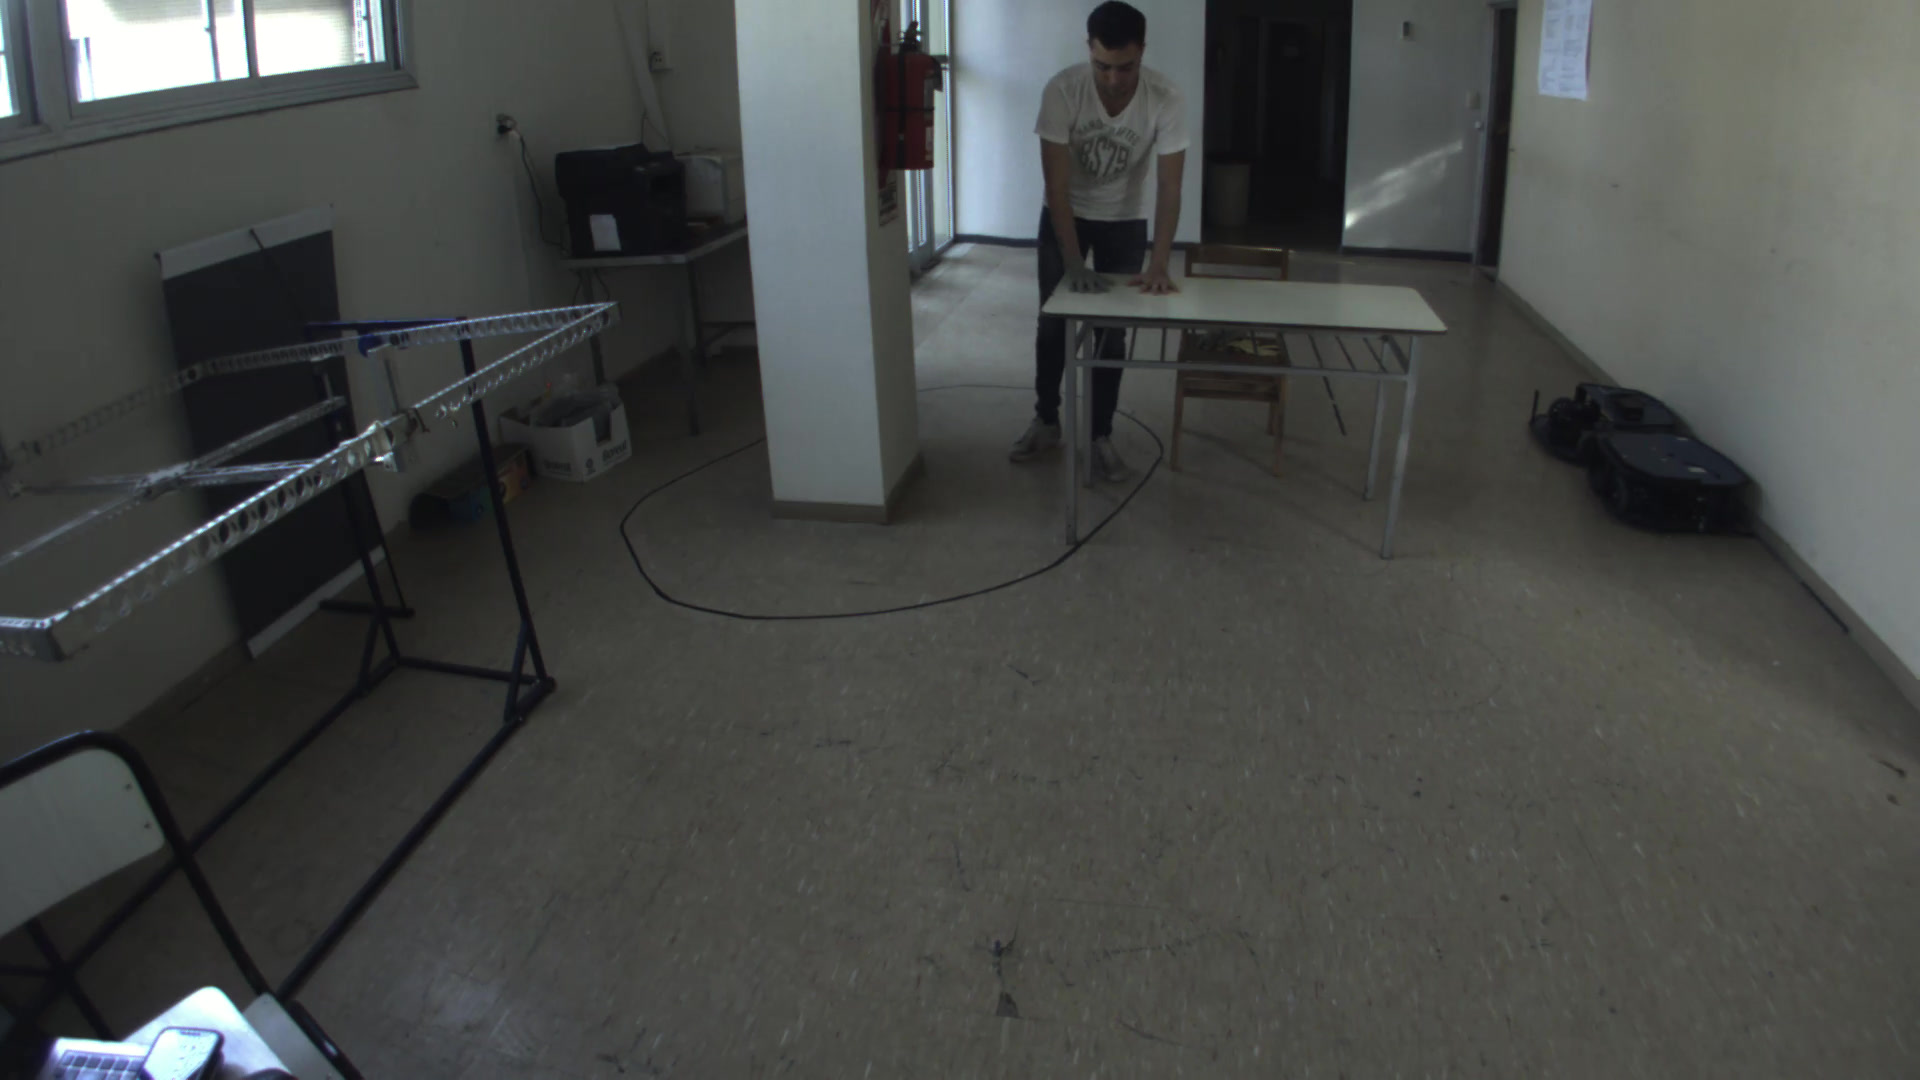hand: (1130, 248, 1193, 298), (1060, 260, 1116, 305)
